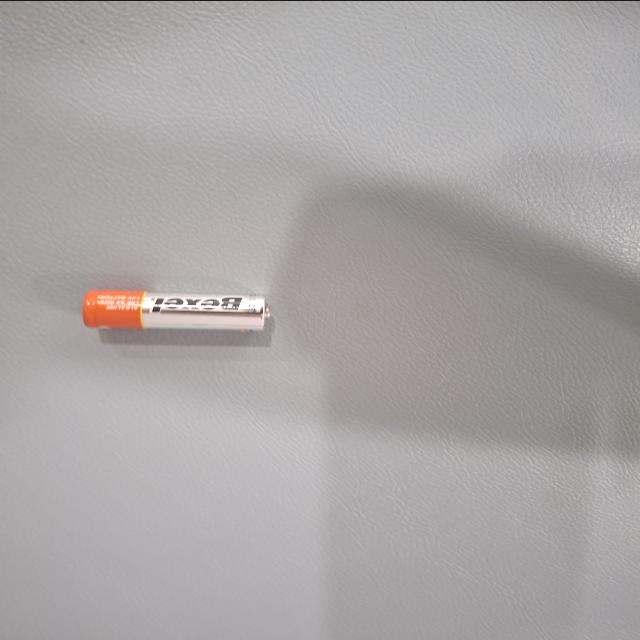AA: (384, 436, 442, 578)
